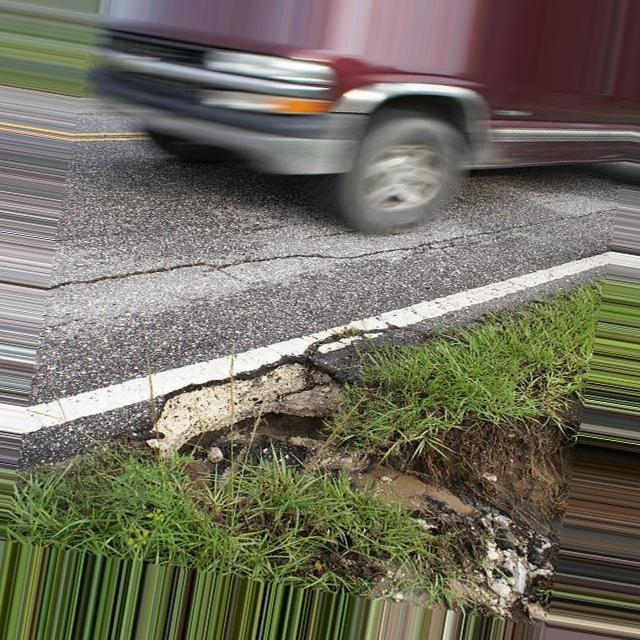Pinggir: (126, 325, 473, 493)
